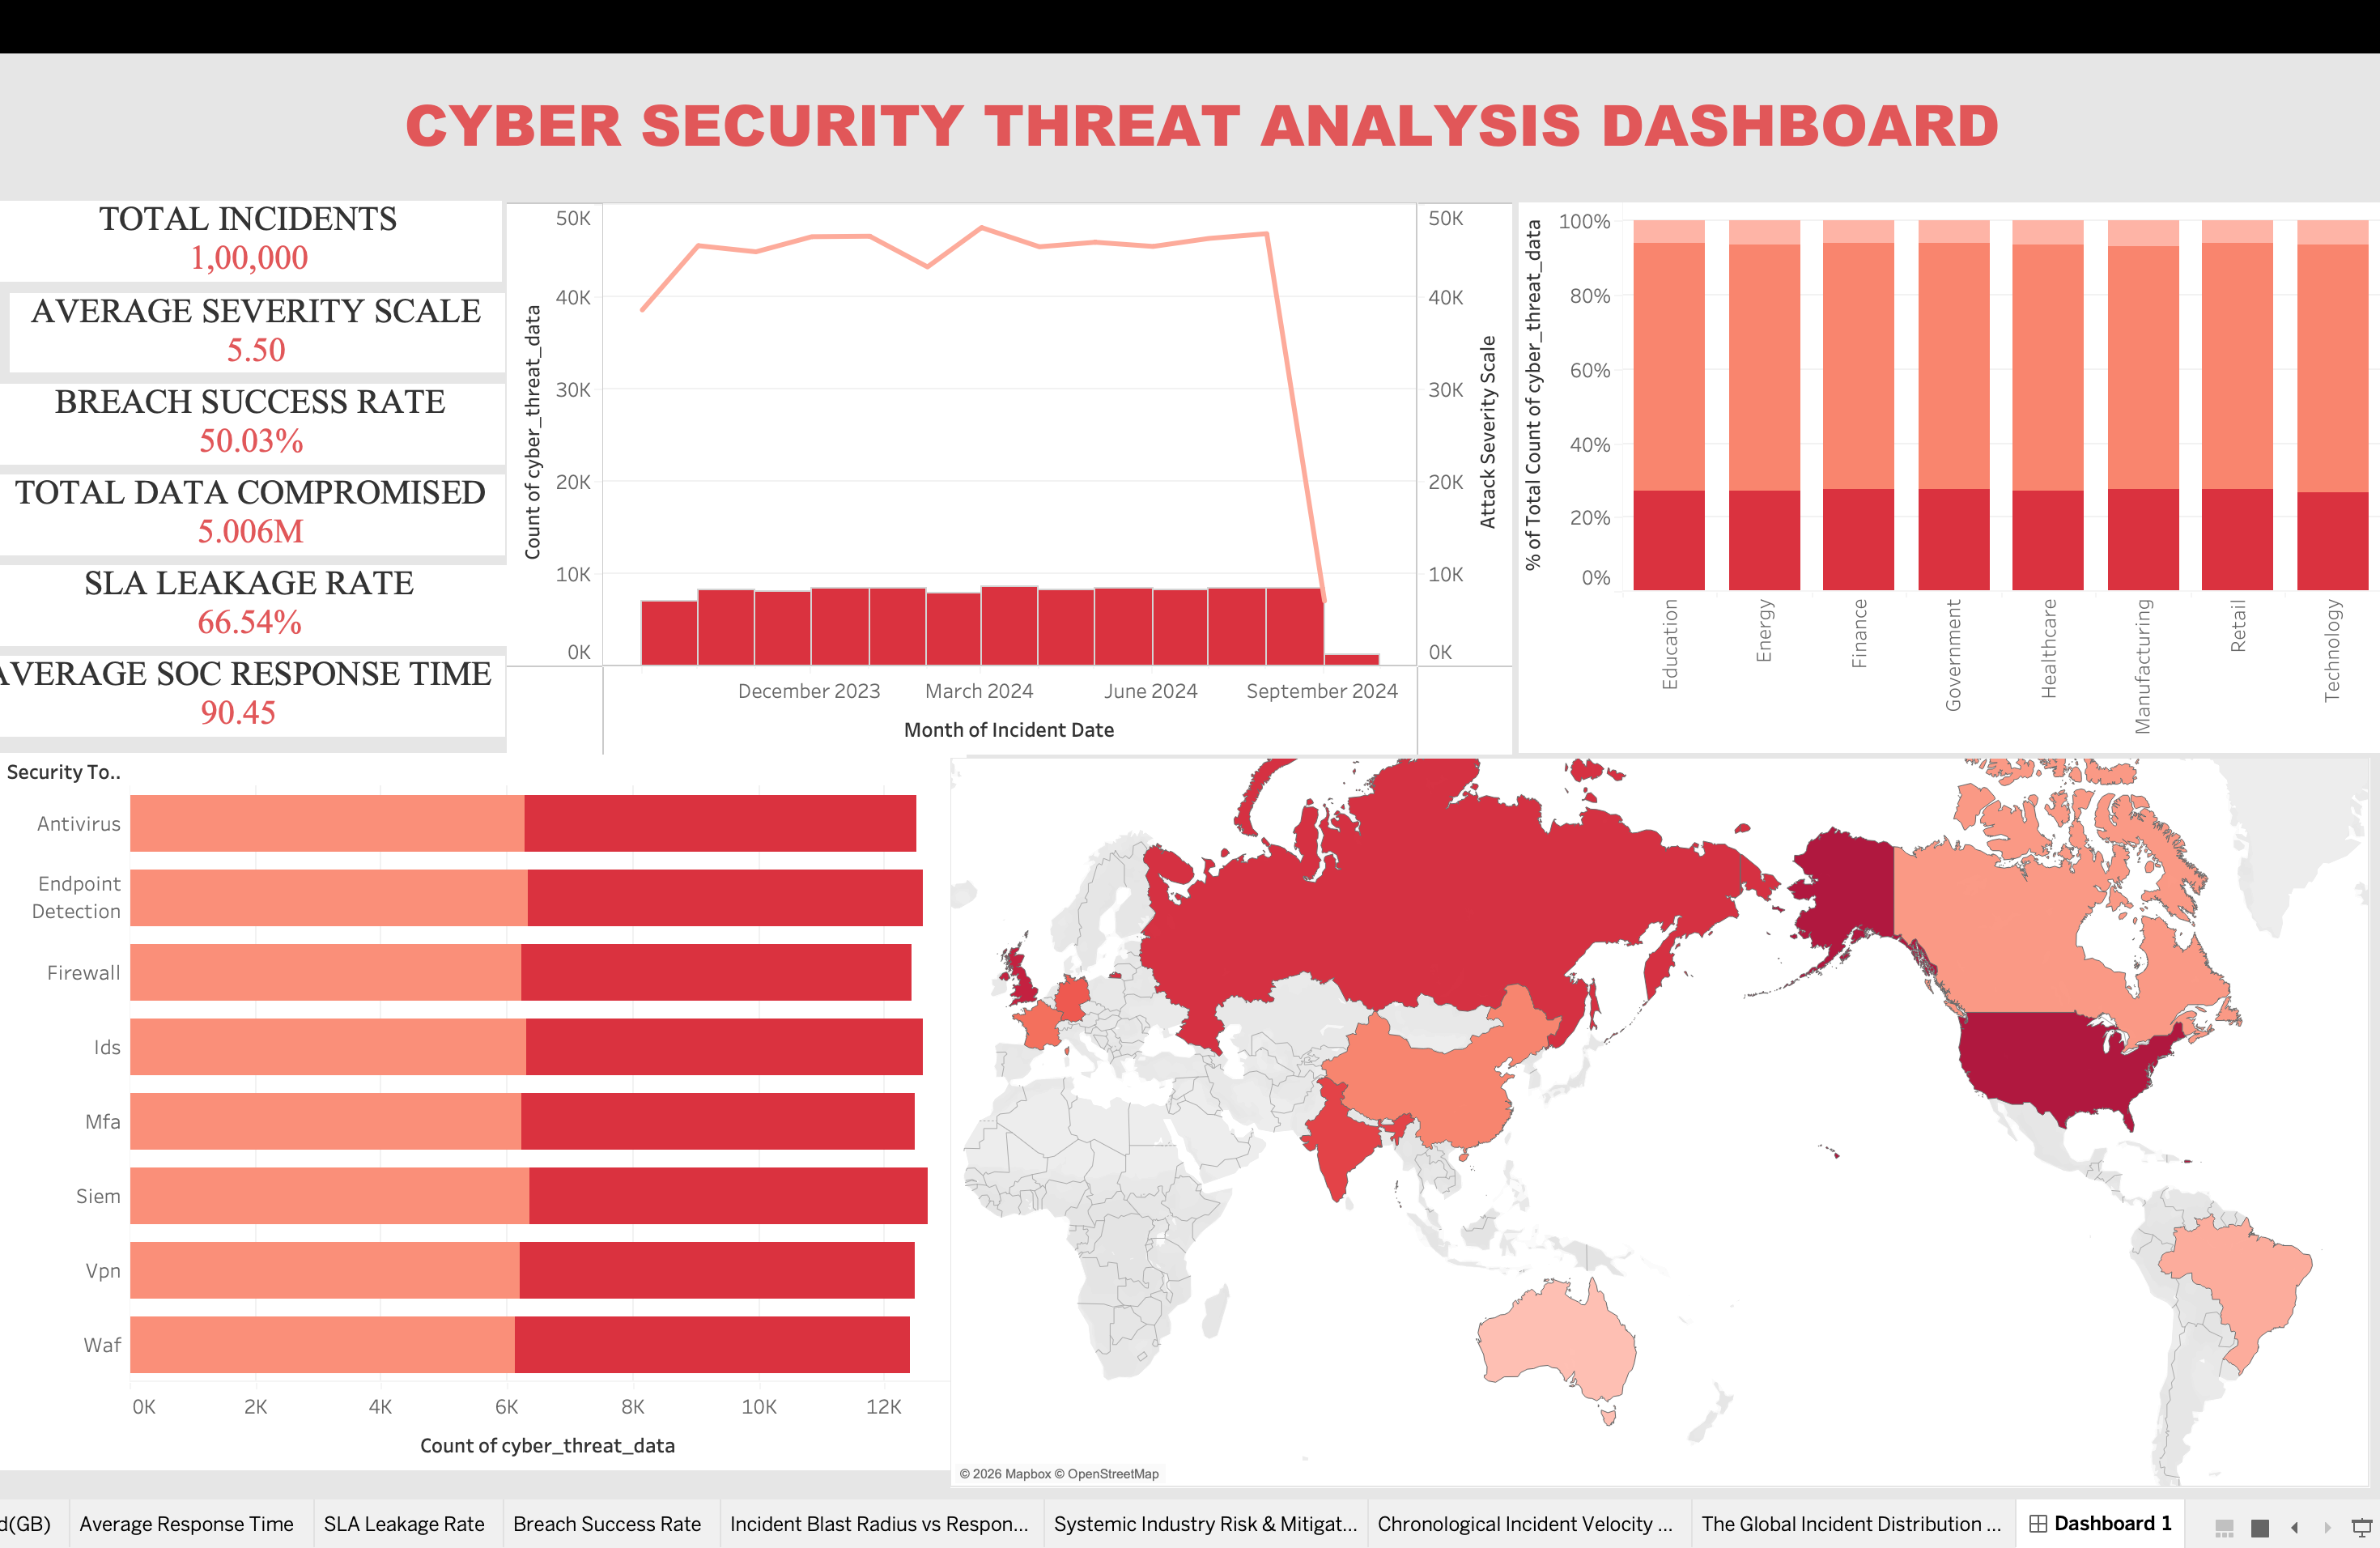

What the dashboard file says about the page in this screenshot:
{"tool":"tableau","page":{"name":"Dashboard 1","canvas":[1000,1000],"units":"permille","ordinal":0},"visuals":[{"type":"text","box":[10.7,12,988.4,72.2]},{"type":"worksheet","title":"Chronological Incident Velocity & Risk Tracking","mark":"Automatic","rows":["cyber!threat!data_24634097F8BA40C3BBD5C95464FB6B2D","Attack Severity Scale"],"cols":["Incident Date"],"box":[212.9,102.7,423.2,382.7]},{"type":"worksheet","title":"Systemic Industry Risk & Mitigation Playbooks","mark":"Automatic","cols":["Industry"],"box":[637.8,103.5,362.2,380.3]},{"type":"worksheet","title":"Average Severity Scale","mark":"Automatic","box":[4,166.1,340.8,333.3]},{"type":"worksheet","title":"Breach Success Rate","mark":"Automatic","box":[0,228.6,340.8,333.3]},{"type":"worksheet","title":"Data Compromised(GB)","mark":"Automatic","box":[0,291.2,340.8,333.3]},{"type":"worksheet","title":"The Global Incident Distribution Map","mark":"Multipolygon","box":[399.5,487.4,596.5,505.4]}]}

Visuals, with their boxes on the dashboard's canvas, which has no fixed pixel size, in thousandths of its width and height (x1, y1, x2, y2). These are canvas units, not pixel positions in the 2380x1548 screenshot, which may show the page scaled, cropped or inside an application window:
text: bbox=[11, 12, 999, 84]
"Chronological Incident Velocity & Risk Tracking" worksheet: bbox=[213, 103, 636, 485]
"Systemic Industry Risk & Mitigation Playbooks" worksheet: bbox=[638, 104, 1000, 484]
"Average Severity Scale" worksheet: bbox=[4, 166, 345, 499]
"Breach Success Rate" worksheet: bbox=[0, 229, 341, 562]
"Data Compromised(GB)" worksheet: bbox=[0, 291, 341, 624]
"The Global Incident Distribution Map" worksheet (Multipolygon marks): bbox=[400, 487, 996, 993]
